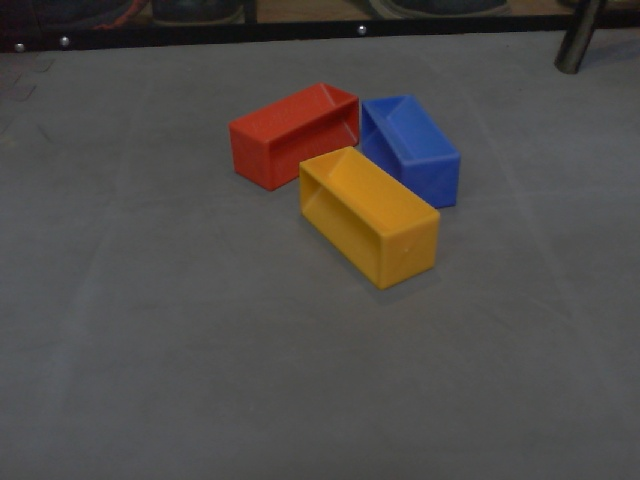BlueSample: (360, 95, 462, 216)
RedSample: (225, 82, 363, 193)
YellowSample: (296, 141, 441, 294)
